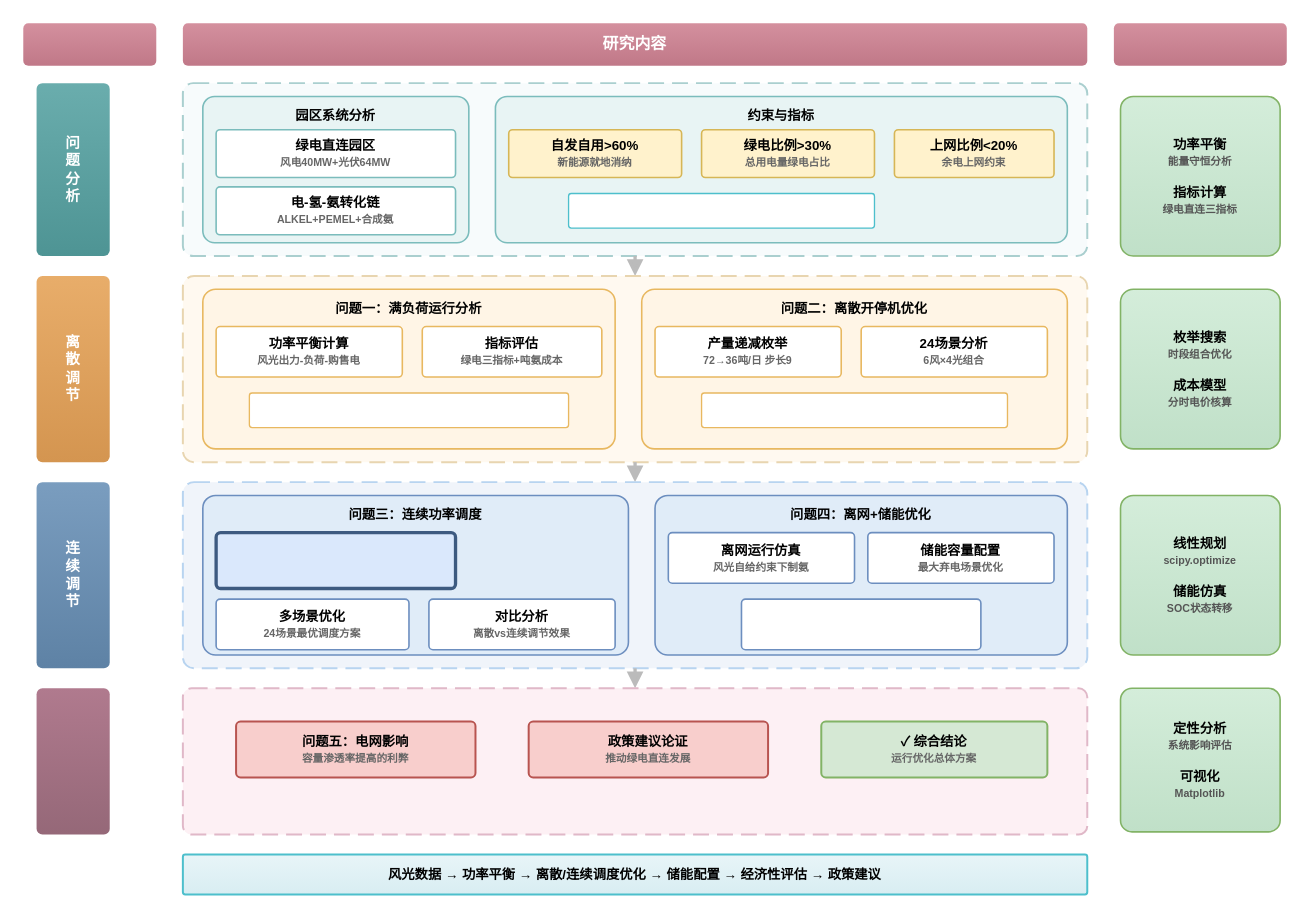
Some shapes in this 1309 by 918 pixel diagram are drawn without their labels. The centre of each missing label's shape, as x and y in pixels:
"★ 线性规划调度 功率连续可调(下限10%)" belongs at [335,560].
"不满足指标 → 引出问题二优化需求" belongs at [408,410].
"全年指标统计 + 吨氨成本分布" belongs at [853,410].
"分时电价 + 上网电价 + 功率平衡" belongs at [720,210].
"政 策 分 析" belongs at [72,761].
"研究方法" belongs at [1199,44].
"研究框架" belongs at [89,44].
"经济性对比 离网vs联网成本分析" belongs at [860,624].
